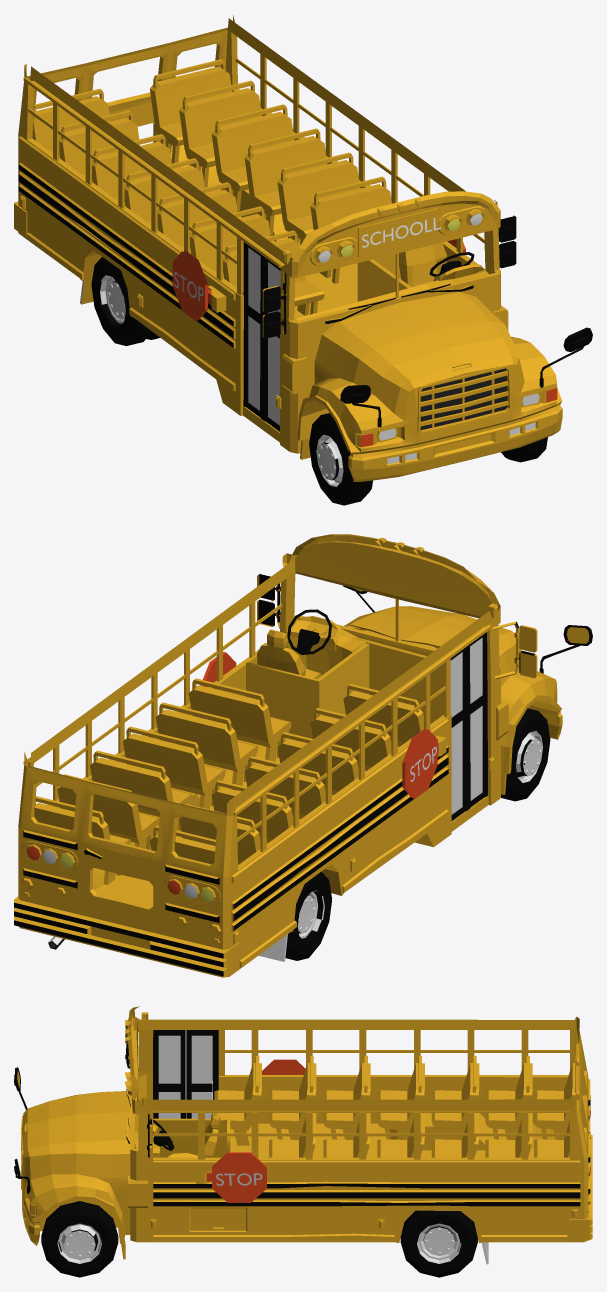
The model's file is schoolcamsz.fbx.
3 renders of one model, top to bottom at view 1: azimuth 30°, elevation 25°; view 2: azimuth 150°, elevation 25°; view 3: azimuth 270°, elevation 25°, orthographic. The views are drawn at different scales.
Parts seen in each view (by area): view 1: SM_Veh_SchoolBus_01, SM_Veh_SchoolBus_01.002, SM_Veh_SchoolBus_Wheel_fr, SM_Veh_SchoolBus_Wheel_rr, SM_Veh_SchoolBus_01.021, SM_Veh_SchoolBus_Door_01_Glass, SM_Veh_SchoolBus_Sign_r, SM_Veh_SchoolBus_Door_01, SM_Veh_SchoolBus_Door_02_Glass, SM_Veh_SchoolBus_01.003, SM_Veh_SchoolBus_Wheel_fr.001, SM_Veh_SchoolBus_01.004 (+3 smaller); view 2: SM_Veh_SchoolBus_01, SM_Veh_SchoolBus_01.002, SM_Veh_SchoolBus_01.038, SM_Veh_SchoolBus_Wheel_fr, SM_Veh_SchoolBus_Wheel_rr, SM_Veh_SchoolBus_Door_02_Glass, SM_Veh_SchoolBus_Sign_r, SM_Veh_SchoolBus_Door_02, SM_Veh_SchoolBus_Door_01_Glass, SM_Veh_SchoolBus_01.036, SM_Veh_SchoolBus_Door_01, SM_Veh_SchoolBus_Wheel_fr.001 (+3 smaller); view 3: SM_Veh_SchoolBus_01, SM_Veh_SchoolBus_01.001, SM_Veh_SchoolBus_Wheel_fl, SM_Veh_SchoolBus_Wheel_rl, SM_Veh_SchoolBus_Sign_l, SM_Veh_SchoolBus_Door_02_Glass, SM_Veh_SchoolBus_Wheel_rl.001, SM_Veh_SchoolBus_Wheel_fl.001, SM_Veh_SchoolBus_Door_01_Glass, SM_Veh_SchoolBus_Door_02, SM_Veh_SchoolBus_Door_01, SM_Veh_SchoolBus_Sign_r.
Part boxes in pixels (x1=…): SM_Veh_SchoolBus_01: x1=14, y1=15, x2=582, y2=481; SM_Veh_SchoolBus_01.002: x1=18, y1=164, x2=233, y2=347; SM_Veh_SchoolBus_Wheel_fr: x1=309, y1=413, x2=372, y2=505; SM_Veh_SchoolBus_Wheel_rr: x1=91, y1=257, x2=160, y2=345; SM_Veh_SchoolBus_01.021: x1=420, y1=368, x2=507, y2=429; SM_Veh_SchoolBus_Door_01_Glass: x1=248, y1=248, x2=260, y2=410; SM_Veh_SchoolBus_Sign_r: x1=172, y1=250, x2=211, y2=320; SM_Veh_SchoolBus_Door_01: x1=243, y1=242, x2=263, y2=419; SM_Veh_SchoolBus_Door_02_Glass: x1=268, y1=262, x2=280, y2=425; SM_Veh_SchoolBus_01.003: x1=263, y1=271, x2=286, y2=338; SM_Veh_SchoolBus_Wheel_fr.001: x1=316, y1=434, x2=343, y2=487; SM_Veh_SchoolBus_01.004: x1=498, y1=216, x2=516, y2=268; SM_Veh_SchoolBus_01: x1=14, y1=534, x2=589, y2=977; SM_Veh_SchoolBus_01.002: x1=233, y1=747, x2=448, y2=930; SM_Veh_SchoolBus_01.038: x1=14, y1=902, x2=223, y2=976; SM_Veh_SchoolBus_Wheel_fr: x1=501, y1=708, x2=550, y2=801; SM_Veh_SchoolBus_Wheel_rr: x1=285, y1=871, x2=331, y2=960; SM_Veh_SchoolBus_Door_02_Glass: x1=470, y1=637, x2=482, y2=800; SM_Veh_SchoolBus_Sign_r: x1=402, y1=728, x2=438, y2=798; SM_Veh_SchoolBus_Door_02: x1=467, y1=632, x2=487, y2=809; SM_Veh_SchoolBus_Door_01_Glass: x1=450, y1=652, x2=462, y2=814; SM_Veh_SchoolBus_01.036: x1=23, y1=830, x2=219, y2=922; SM_Veh_SchoolBus_Door_01: x1=450, y1=647, x2=467, y2=820; SM_Veh_SchoolBus_Wheel_fr.001: x1=516, y1=730, x2=542, y2=782; SM_Veh_SchoolBus_01: x1=17, y1=1006, x2=592, y2=1259; SM_Veh_SchoolBus_01.001: x1=153, y1=1183, x2=580, y2=1206; SM_Veh_SchoolBus_Wheel_fl: x1=41, y1=1201, x2=118, y2=1277; SM_Veh_SchoolBus_Wheel_rl: x1=400, y1=1210, x2=477, y2=1277; SM_Veh_SchoolBus_Sign_l: x1=204, y1=1152, x2=266, y2=1202; SM_Veh_SchoolBus_Door_02_Glass: x1=158, y1=1035, x2=180, y2=1118; SM_Veh_SchoolBus_Wheel_rl.001: x1=417, y1=1223, x2=461, y2=1263; SM_Veh_SchoolBus_Wheel_fl.001: x1=57, y1=1223, x2=102, y2=1263; SM_Veh_SchoolBus_Door_01_Glass: x1=191, y1=1035, x2=212, y2=1118; SM_Veh_SchoolBus_Door_02: x1=153, y1=1030, x2=185, y2=1118; SM_Veh_SchoolBus_Door_01: x1=186, y1=1030, x2=218, y2=1118; SM_Veh_SchoolBus_Sign_r: x1=262, y1=1059, x2=305, y2=1074.
Bounding box in the file's own units: 354 × 323 × 809.
